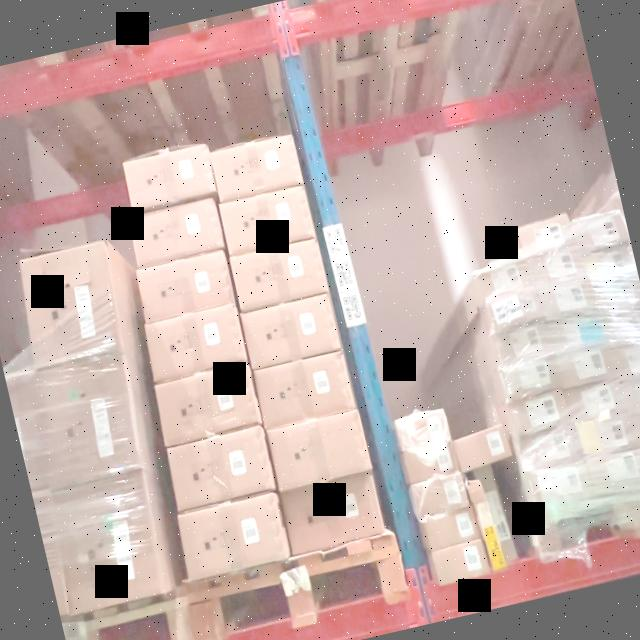box: (53, 468, 164, 614), (34, 354, 141, 491), (20, 238, 120, 362), (179, 491, 288, 578), (167, 427, 275, 514), (155, 362, 259, 447), (266, 409, 372, 492), (282, 474, 383, 553), (145, 303, 246, 382), (254, 352, 356, 430), (230, 237, 329, 312), (243, 295, 340, 369), (136, 250, 234, 323), (128, 196, 224, 267), (218, 185, 315, 255), (121, 143, 217, 213), (210, 133, 303, 202), (477, 467, 518, 562), (468, 478, 503, 572), (507, 390, 571, 439), (498, 354, 560, 404), (546, 310, 608, 356), (574, 413, 636, 459), (492, 320, 552, 367), (431, 538, 490, 585), (514, 427, 578, 470), (565, 379, 627, 423), (516, 212, 574, 259), (526, 462, 589, 505), (453, 422, 509, 469), (423, 507, 479, 553), (411, 473, 468, 518), (554, 345, 615, 387), (395, 408, 449, 455), (486, 285, 541, 331), (536, 276, 597, 317), (526, 246, 584, 289), (402, 442, 456, 484), (586, 450, 640, 488), (482, 257, 532, 296)
